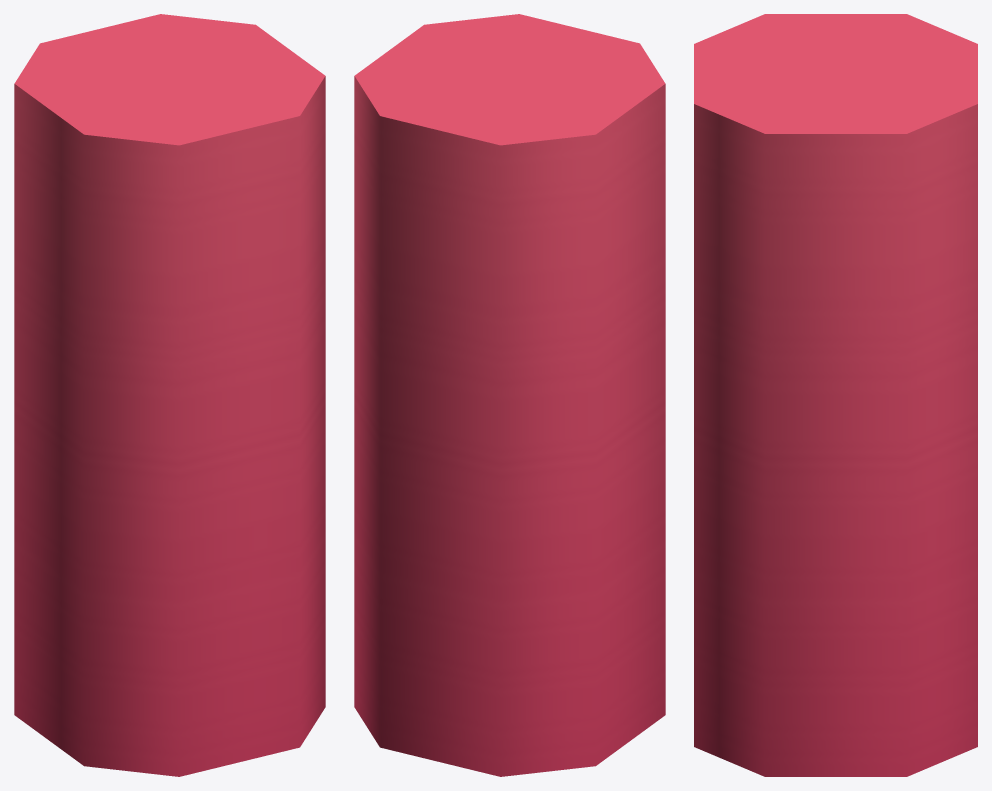
File: support.gltf
3 renders of one model, left to right at view 1: azimuth 30°, elevation 25°; view 2: azimuth 150°, elevation 25°; view 3: azimuth 270°, elevation 25°, orthographic.
Parts seen in each view (by area): view 1: support; view 2: support; view 3: support.
Part boxes in pixels (x1,y1,x2,y2): support: [14, 14, 325, 776]; support: [354, 14, 665, 776]; support: [694, 14, 977, 776].
Bounding box in the file's own units: 0.4 × 1 × 0.4.
Materials: 1 (1 with a texture image).
